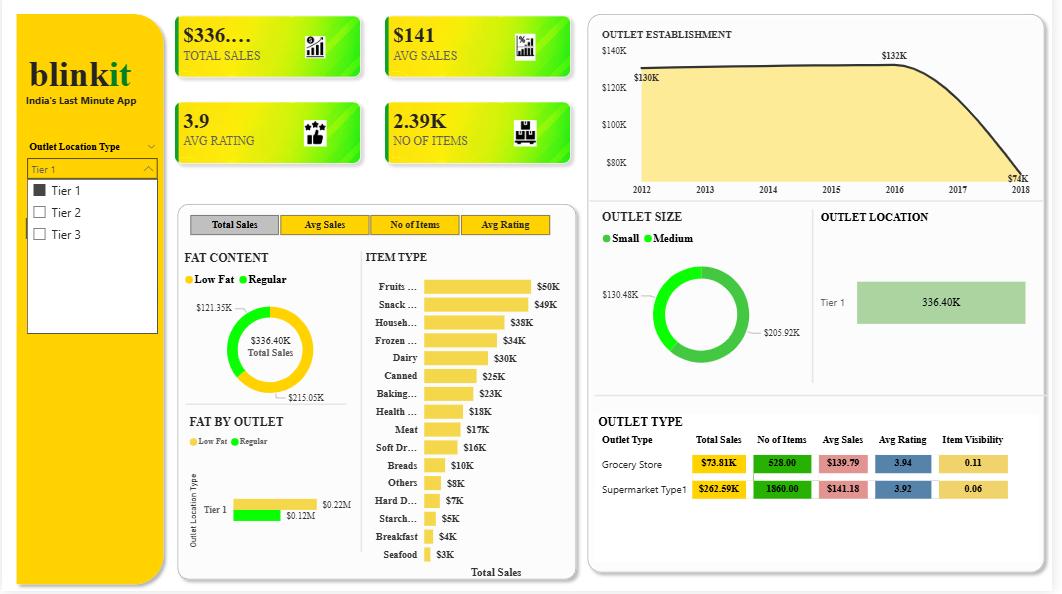

This screenshot's page, from the dashboard's own definition file:
{"tool":"powerbi","page":{"name":"Page 1","canvas":[1400,800],"ordinal":0},"visuals":[{"type":"shape","box":[10.7,21.4,214.5,778.8],"z":0},{"type":"textbox","box":[26.8,77.7,154.2,65.7],"z":1000},{"type":"textbox","box":[26.8,131.4,168.9,28.2],"z":2000},{"type":"cardVisual","fields":{"Data":["BlinkIT Grocery Data.Total Sales","BlinkIT Grocery Data.Avg Sales","BlinkIT Grocery Data.Avg Rating","BlinkIT Grocery Data.No of Items"]},"box":[202.4,2.7,587.1,256],"z":3000},{"type":"shape","box":[225.2,274.8,549.6,518.8],"z":4000},{"type":"donutChart","title":"FAT CONTENT","fields":{"Y":["BlinkIT Grocery Data.Total Sales"],"Category":["BlinkIT Grocery Data.Item Fat Content"]},"box":[238.6,347.2,238.6,214.5],"z":5000},{"type":"slicer","fields":{"Values":["Metrics.Metrics"]},"box":[225.2,290.9,529.5,38.9],"z":6000},{"type":"cardVisual","fields":{"Data":["BlinkIT Grocery Data.Total Sales"]},"box":[294.9,438.3,126,73.7],"z":7000},{"type":"clusteredBarChart","title":"FAT BY OUTLET","fields":{"Y":["BlinkIT Grocery Data.Total Sales"],"Category":["BlinkIT Grocery Data.Outlet Location Type"],"Series":["BlinkIT Grocery Data.Item Fat Content"]},"box":[245.3,564.3,225.2,202.4],"z":8000},{"type":"shape","box":[245.3,544.2,214.5,12.1],"z":9000},{"type":"shape","box":[473.2,347.2,12.1,406.2],"z":10000},{"type":"barChart","title":"ITEM TYPE","fields":{"Y":["BlinkIT Grocery Data.Total Sales"],"Category":["BlinkIT Grocery Data.Item Type"]},"box":[485.3,345.8,269.4,437],"z":11000},{"type":"shape","box":[772.1,21.4,627.3,762.7],"z":12000},{"type":"lineChart","title":"OUTLET ESTABLISHMENT","fields":{"Category":["BlinkIT Grocery Data.Outlet Establishment Year"],"Y":["BlinkIT Grocery Data.Total Sales"]},"box":[794.9,49.6,580.4,230.6],"z":13000},{"type":"shape","box":[789.5,533.5,604.6,12.1],"z":14000},{"type":"donutChart","title":"OUTLET SIZE","fields":{"Y":["BlinkIT Grocery Data.Total Sales"],"Category":["BlinkIT Grocery Data.Outlet Size"]},"box":[794.9,290.9,274.8,230.6],"z":15000},{"type":"shape","box":[1075.1,290.9,12.1,235.9],"z":16000},{"type":"funnel","title":"OUTLET LOCATION","fields":{"Category":["BlinkIT Grocery Data.Outlet Location Type"],"Y":["Sum(BlinkIT Grocery Data.Sales)"]},"box":[1087.1,293.6,288.2,227.9],"z":17000},{"type":"shape","box":[782.8,276.1,604.6,6.7],"z":18000},{"type":"pivotTable","title":"OUTLET TYPE","fields":{"Rows":["BlinkIT Grocery Data.Outlet Type"],"Values":["BlinkIT Grocery Data.Total Sales","BlinkIT Grocery Data.No of Items","BlinkIT Grocery Data.Avg Sales","BlinkIT Grocery Data.Avg Rating","Avg(BlinkIT Grocery Data.Item Visibility)"]},"box":[789.5,564.3,592.5,197.1],"z":19000},{"type":"slicer","fields":{"Values":["BlinkIT Grocery Data.Outlet Location Type"]},"box":[24.1,194.4,194.4,64.3],"z":20000},{"type":"slicer","fields":{"Values":["BlinkIT Grocery Data.Outlet Size"]},"box":[21.4,274.8,194.4,64.3],"z":21000},{"type":"slicer","fields":{"Values":["BlinkIT Grocery Data.Item Type"]},"box":[22.8,367.3,194.4,64.3],"z":22000}]}

Visuals, with their boxes in screenshot pixels (x1, y1, x2, y2), scaled from the page's 1400x800 canvas onto the 1062x594 screenshot:
shape: bbox(8, 16, 171, 593)
textbox: bbox(20, 58, 137, 106)
textbox: bbox(20, 98, 148, 119)
cardVisual - BlinkIT Grocery Data.Total Sales x BlinkIT Grocery Data.Avg Sales: bbox(154, 2, 599, 192)
shape: bbox(171, 204, 588, 589)
"FAT CONTENT" donutChart: bbox(181, 258, 362, 417)
slicer - Metrics.Metrics: bbox(171, 216, 572, 245)
cardVisual - BlinkIT Grocery Data.Total Sales: bbox(224, 325, 319, 380)
"FAT BY OUTLET" clusteredBarChart: bbox(186, 419, 357, 569)
shape: bbox(186, 404, 349, 413)
shape: bbox(359, 258, 368, 559)
"ITEM TYPE" barChart: bbox(368, 257, 572, 581)
shape: bbox(586, 16, 1061, 582)
"OUTLET ESTABLISHMENT" lineChart: bbox(603, 37, 1043, 208)
shape: bbox(599, 396, 1058, 405)
"OUTLET SIZE" donutChart: bbox(603, 216, 811, 387)
shape: bbox(816, 216, 825, 391)
"OUTLET LOCATION" funnel: bbox(825, 218, 1043, 387)
shape: bbox(594, 205, 1052, 210)
"OUTLET TYPE" pivotTable: bbox(599, 419, 1048, 565)
slicer - BlinkIT Grocery Data.Outlet Location Type: bbox(18, 144, 166, 192)
slicer - BlinkIT Grocery Data.Outlet Size: bbox(16, 204, 164, 252)
slicer - BlinkIT Grocery Data.Item Type: bbox(17, 273, 165, 320)
